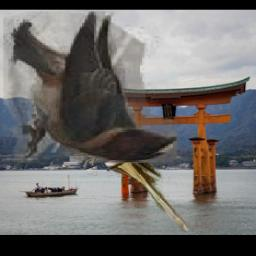Cuckoo: (42, 118, 190, 233)
Swallow: (4, 11, 178, 163)
